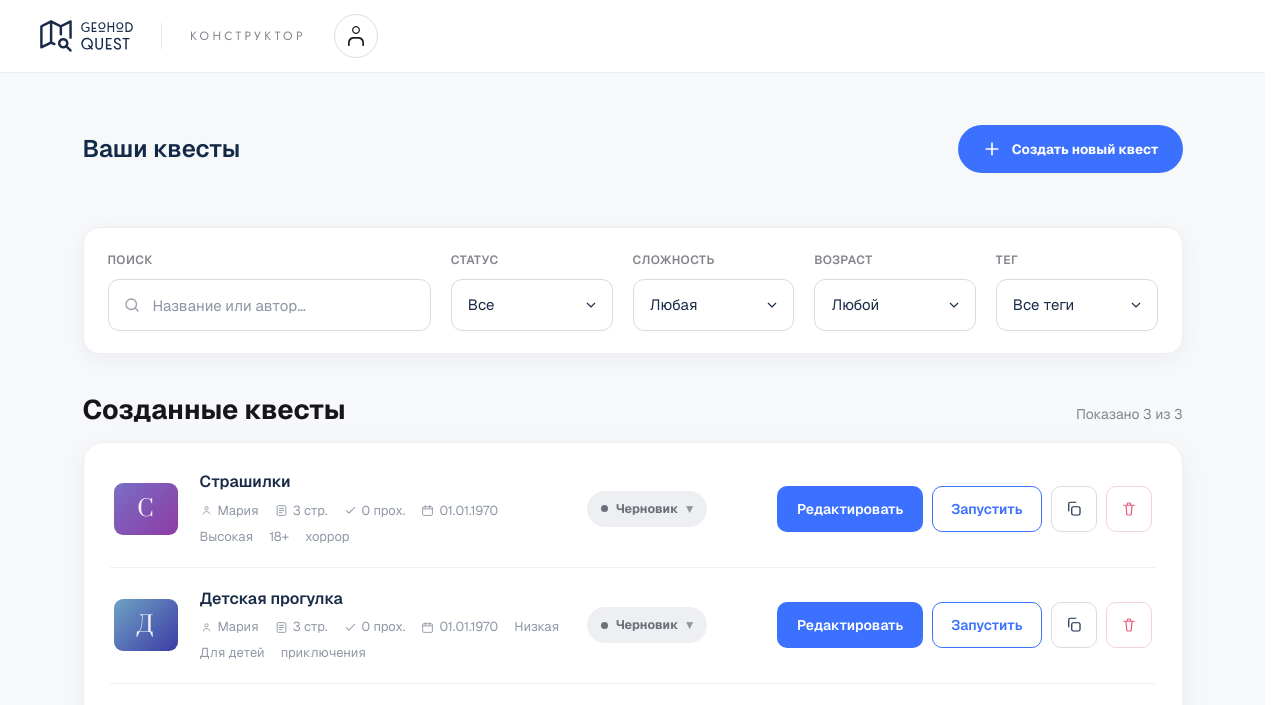
Dashboard attribute filters › filters by complexity
Select "Высокая" in the dropdown labelled "Сложность" at (713, 305), box top-left (632, 279), bottom-right (794, 331)
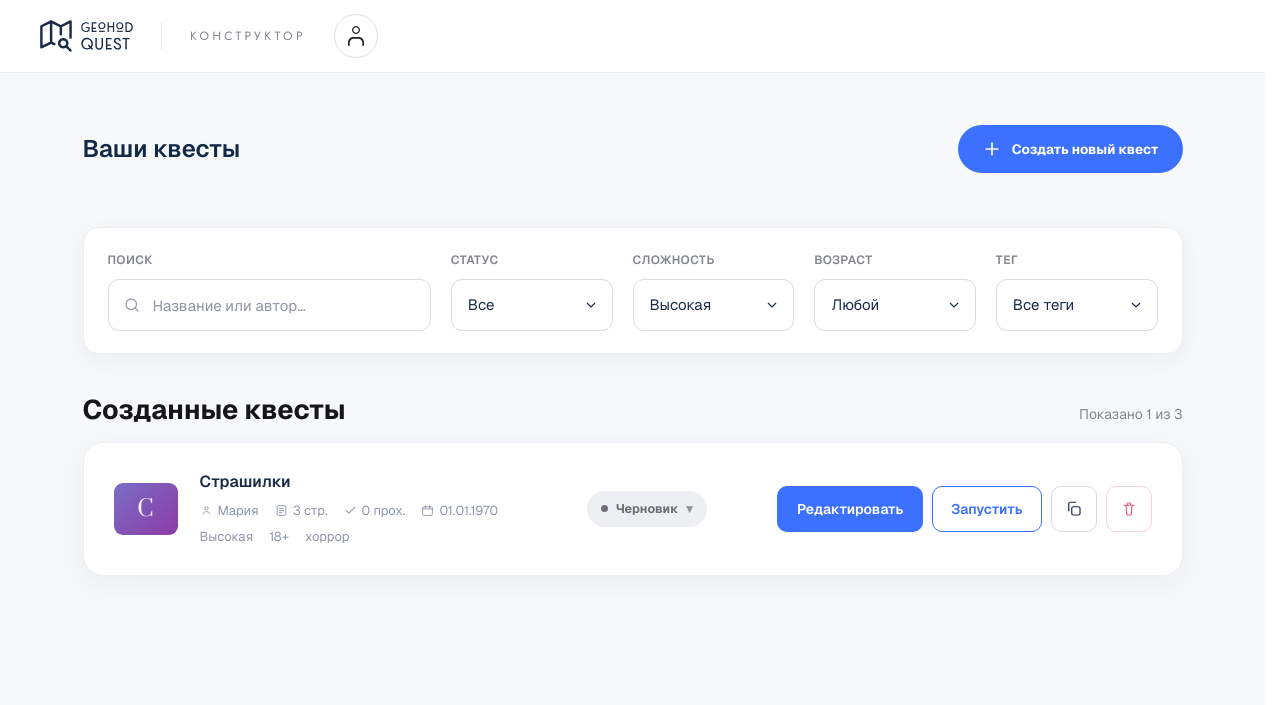
Expected: the text "Страшилки" is shown, top-left (200, 471), bottom-right (291, 492)
Expected: the text "Детская прогулка" is gone
